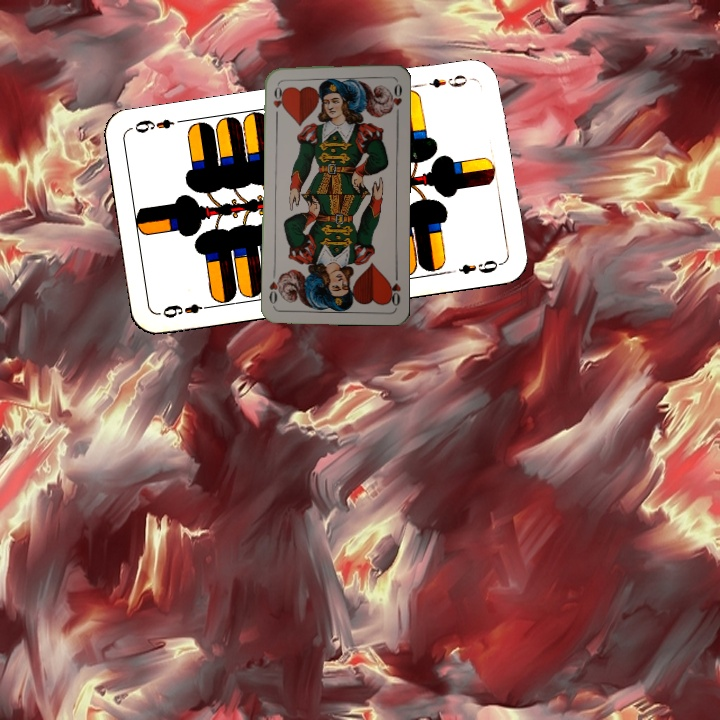E9: (158, 299, 215, 321), (425, 71, 474, 91)
HO: (385, 268, 403, 308), (269, 79, 285, 120)
